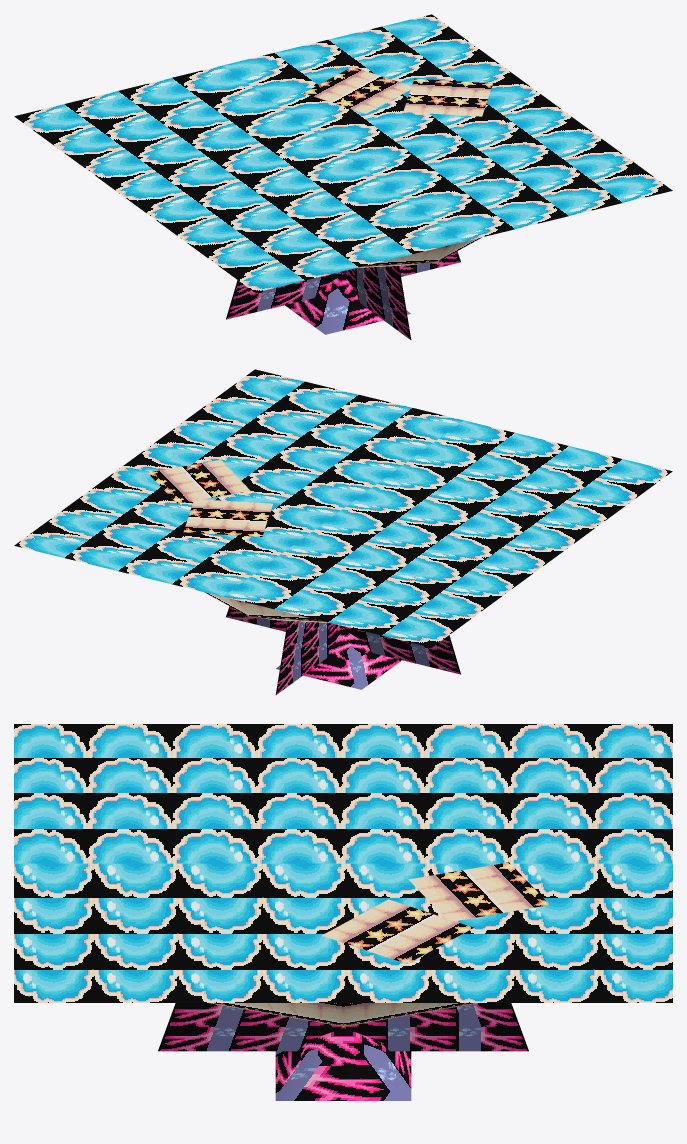
3 views of the same model, one above another, from view 1: azimuth 30°, elevation 25°; view 2: azimuth 150°, elevation 25°; view 3: azimuth 270°, elevation 25° (orthographic). The views are drawn at different scales.
Parts seen in each view (by area): view 1: 3613kg_24_ta0; view 2: 3613kg_24_ta0; view 3: 3613kg_24_ta0.
Boxes of the visible parts, left/top/right/bottom form: 3613kg_24_ta0: left=14, top=14, right=672, bottom=339; 3613kg_24_ta0: left=14, top=369, right=672, bottom=694; 3613kg_24_ta0: left=14, top=724, right=672, bottom=1100.
Bounding box in the file's own units: 2 × 0.7478 × 2.
Materials: 3 (3 with a texture image).
